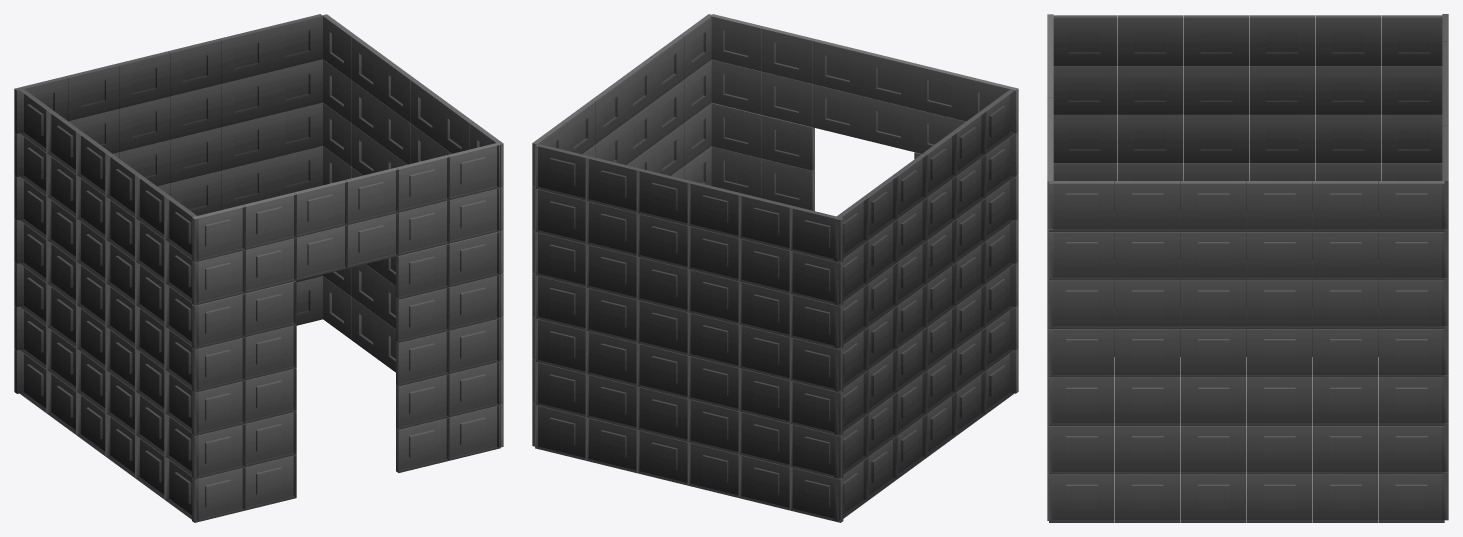
File: wall_panels.fbx
3 views of the same model, side by side, from view 1: azimuth 30°, elevation 25°; view 2: azimuth 150°, elevation 25°; view 3: azimuth 270°, elevation 25° (orthographic). The views are drawn at different scales.
Visible parts, largest first — view 1: wall_panels; view 2: wall_panels; view 3: wall_panels.
Boxes of the visible parts, x1,y1,x2,y2 form: wall_panels: (14,14,503,522); wall_panels: (532,14,1018,522); wall_panels: (1047,14,1448,522).
Size of the model in its own units: 300 by 280 by 299.
